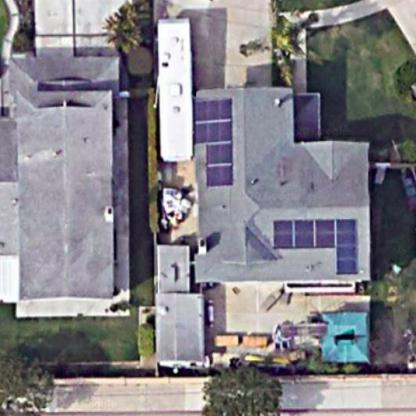car: (146, 9, 206, 171)
solar_panel: (270, 211, 358, 276), (188, 89, 239, 191)
